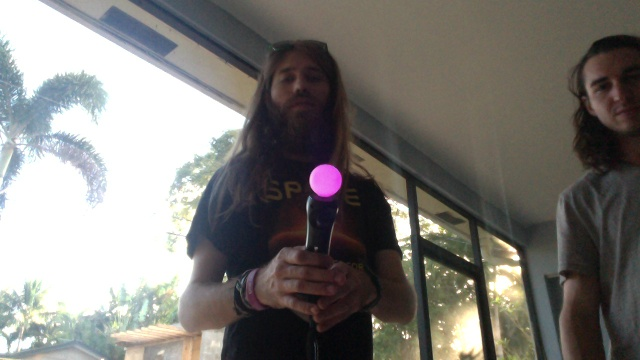wand: (309, 166, 342, 197)
